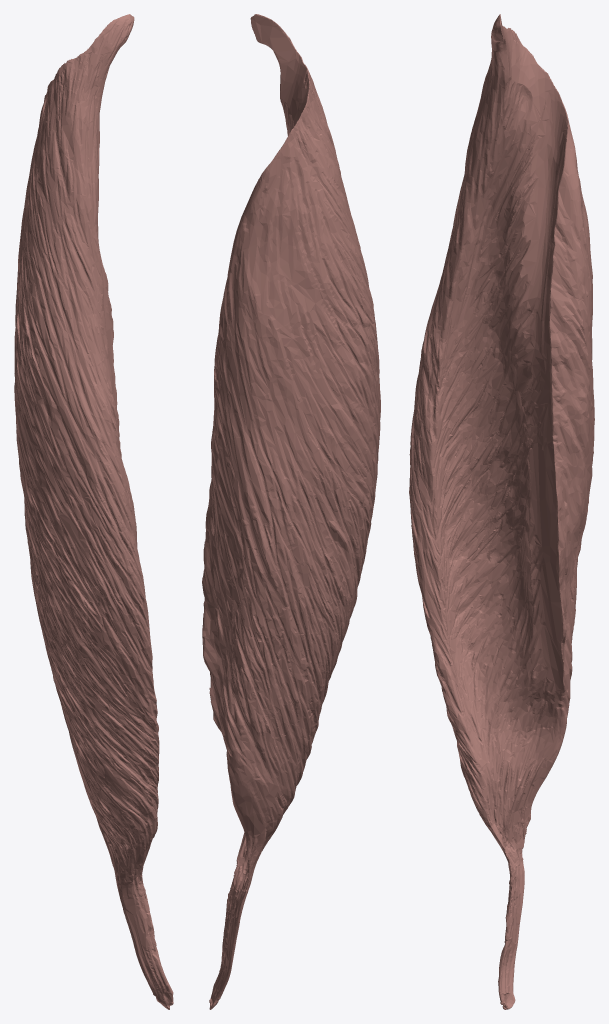
Rendered from FMA38931.glb.
The picture shows the model from 3 angles, left to right: view 1: azimuth 30°, elevation 25°; view 2: azimuth 150°, elevation 25°; view 3: azimuth 270°, elevation 25°; orthographic projection. The views are drawn at different scales.
Visible parts, largest first — view 1: B.FMA38931; view 2: B.FMA38931; view 3: B.FMA38931.
Boxes of the visible parts, box(x1,y1,x2,y2) form: B.FMA38931: box(14, 14, 173, 1009); B.FMA38931: box(202, 14, 380, 1009); B.FMA38931: box(409, 14, 594, 1009).
Size of the model in its own units: 0.0717 by 0.4427 by 0.0768.
